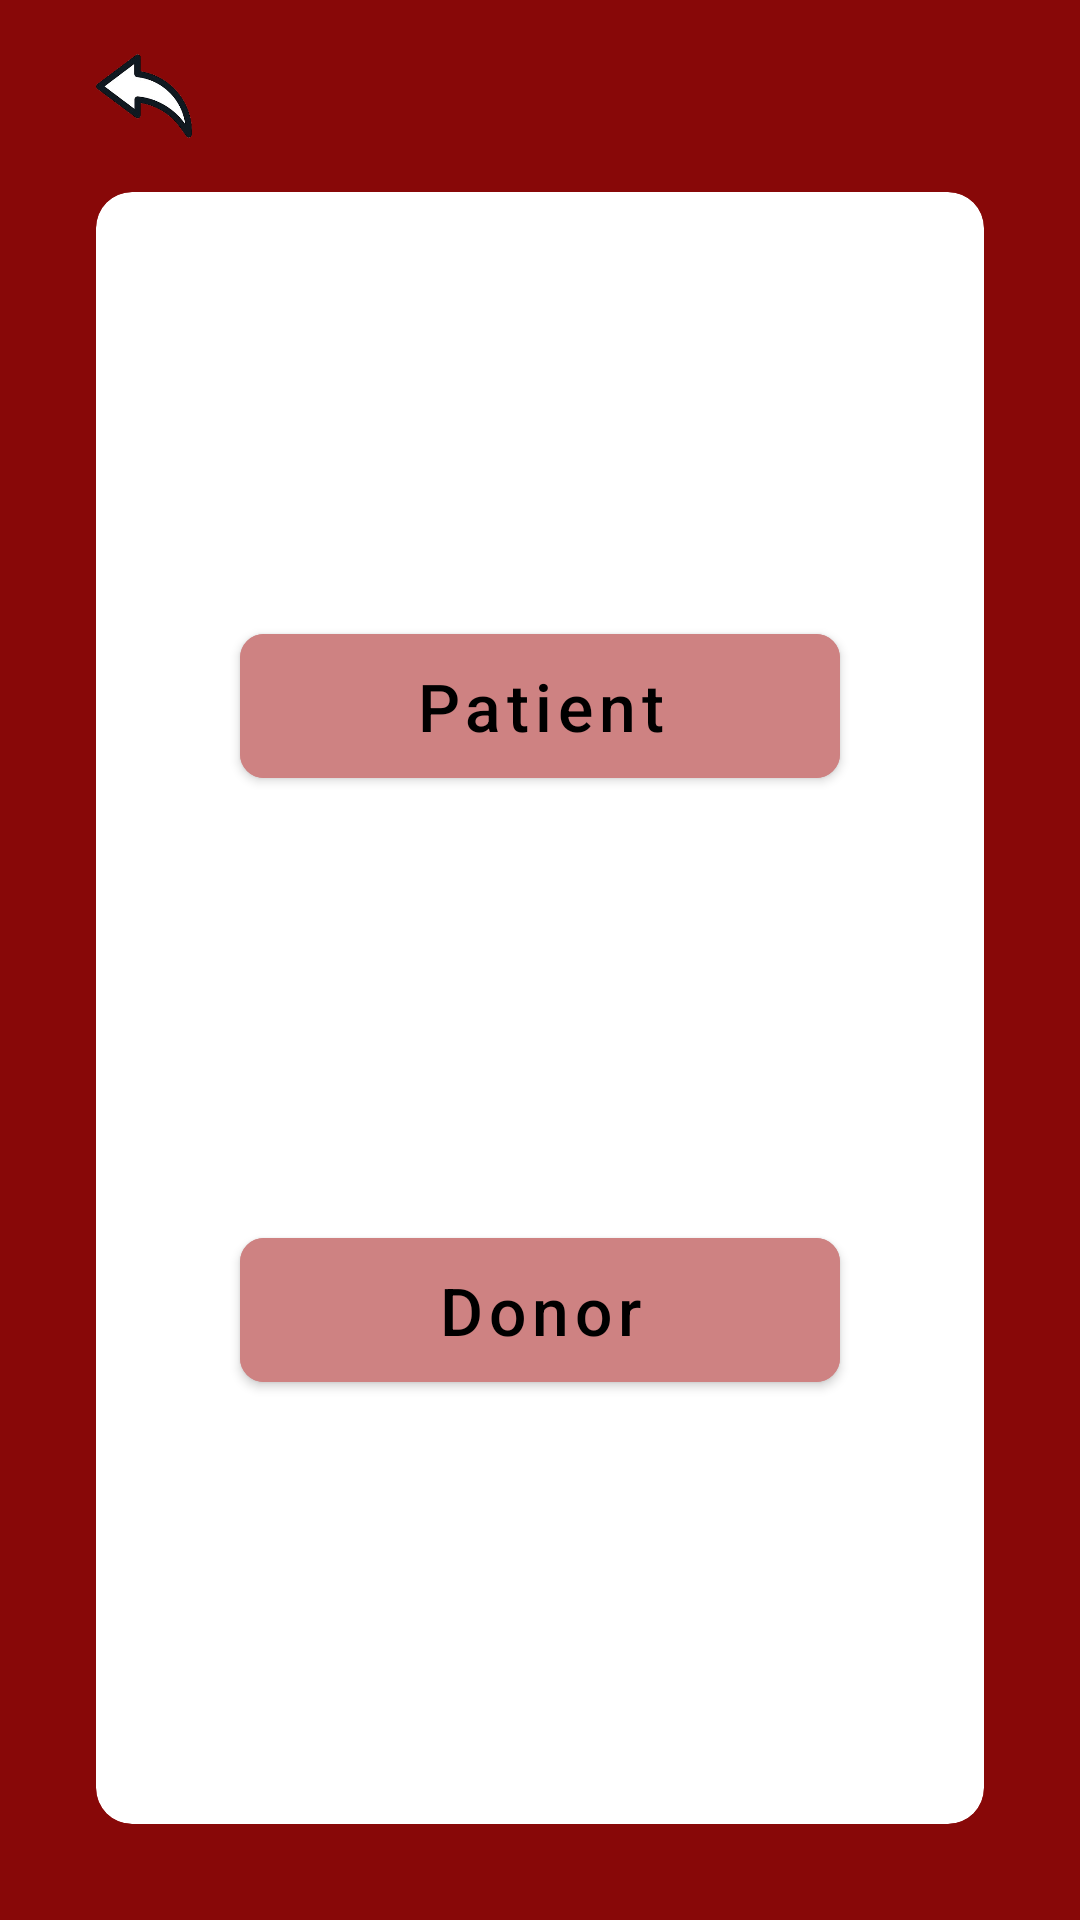

Where icons sit on this 1080 × 1920 app screen, as (x1, y1, x2, y2):
back: (96, 54, 192, 138)
